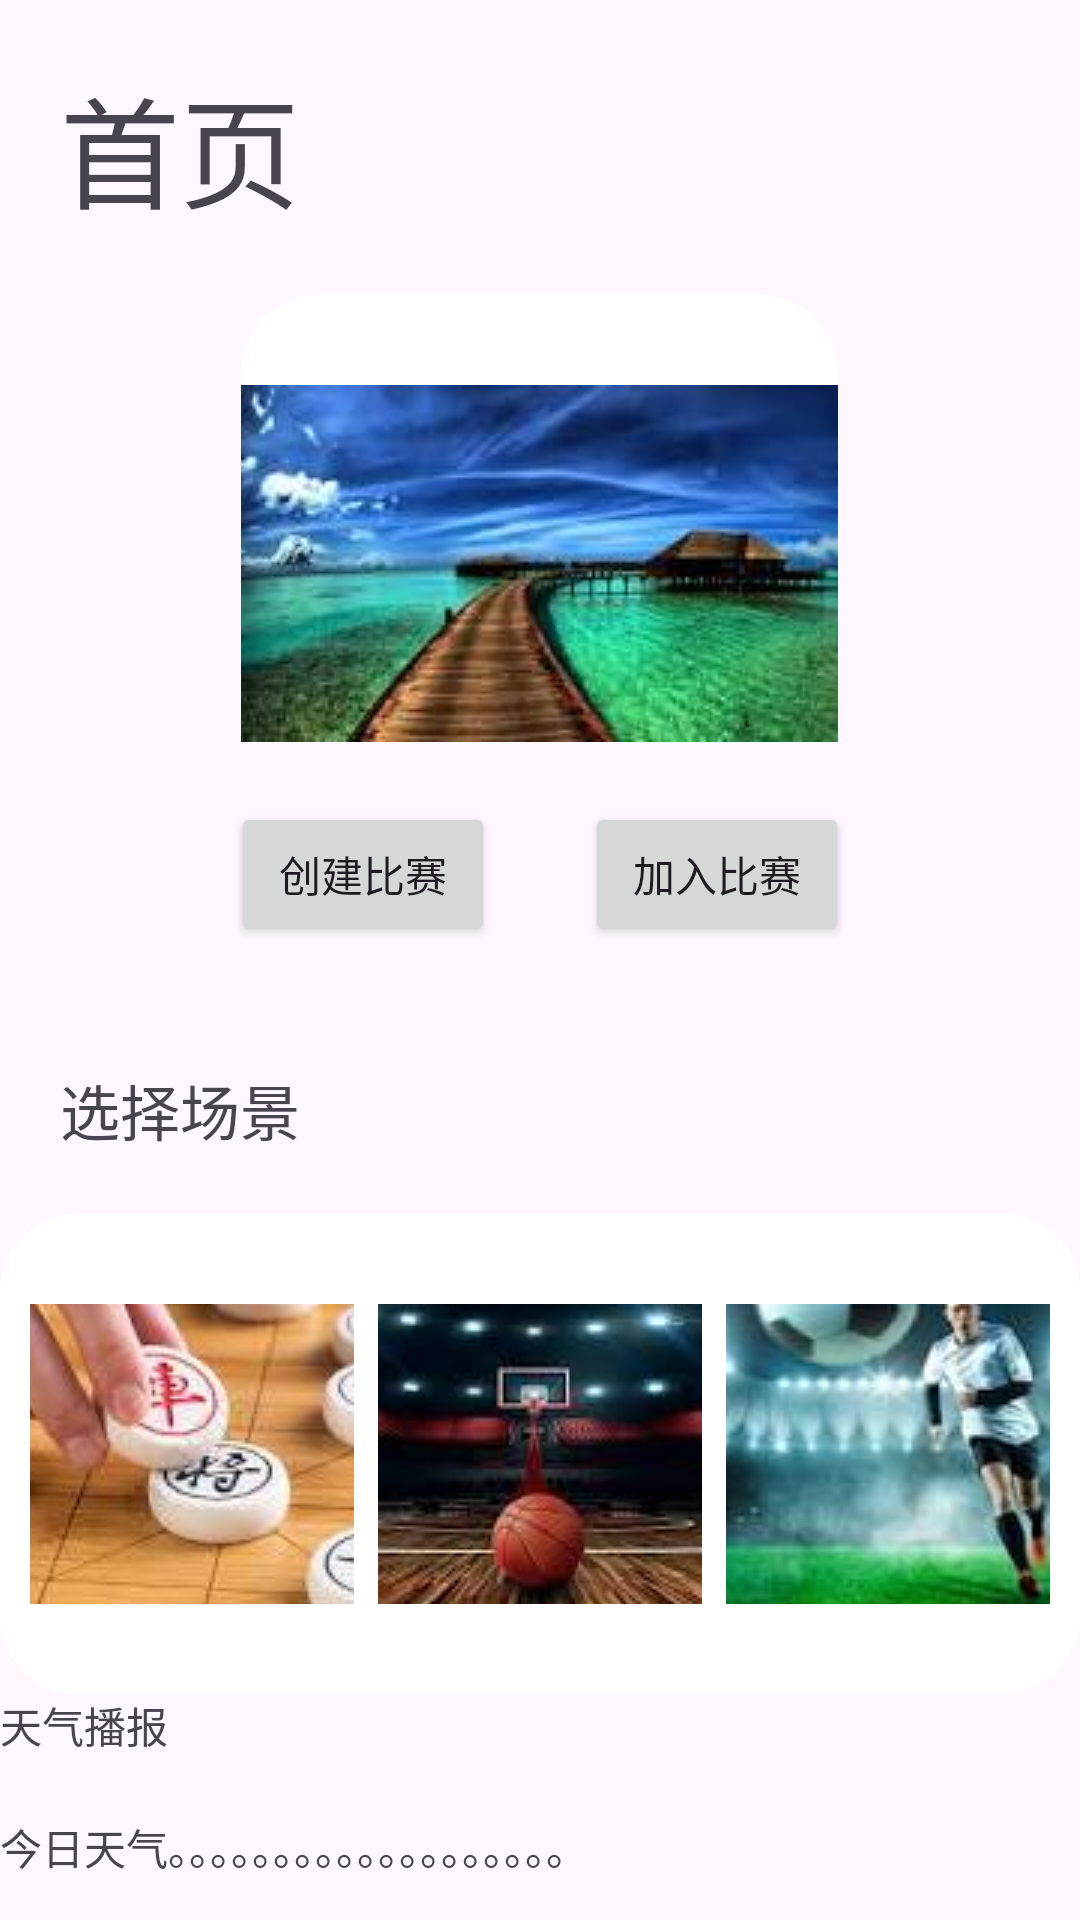

Icon click points for this 1080 × 1920 phone screenshot, format (x=x, y=y):
篮球: (x=540, y=1454)
象棋: (x=192, y=1454)
足球: (x=888, y=1454)
